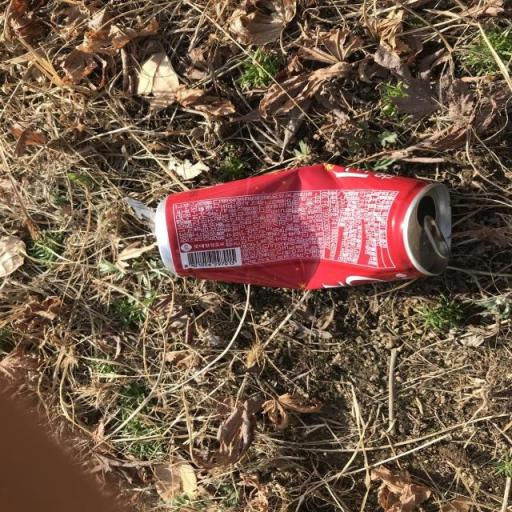metal: (112, 133, 493, 332)
